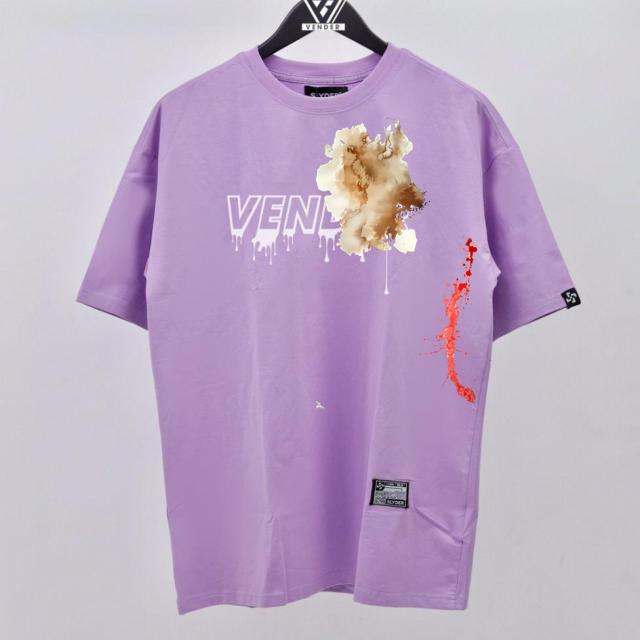stain: (316, 121, 422, 259), (439, 240, 484, 409), (310, 397, 332, 415)
